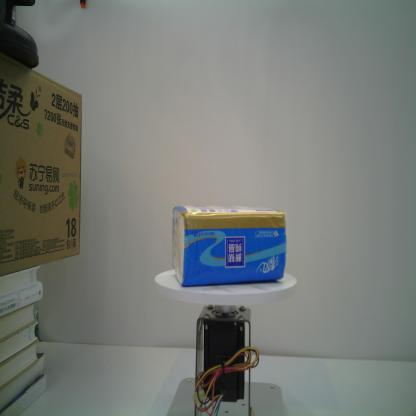Tissue: (170, 204, 288, 289)
